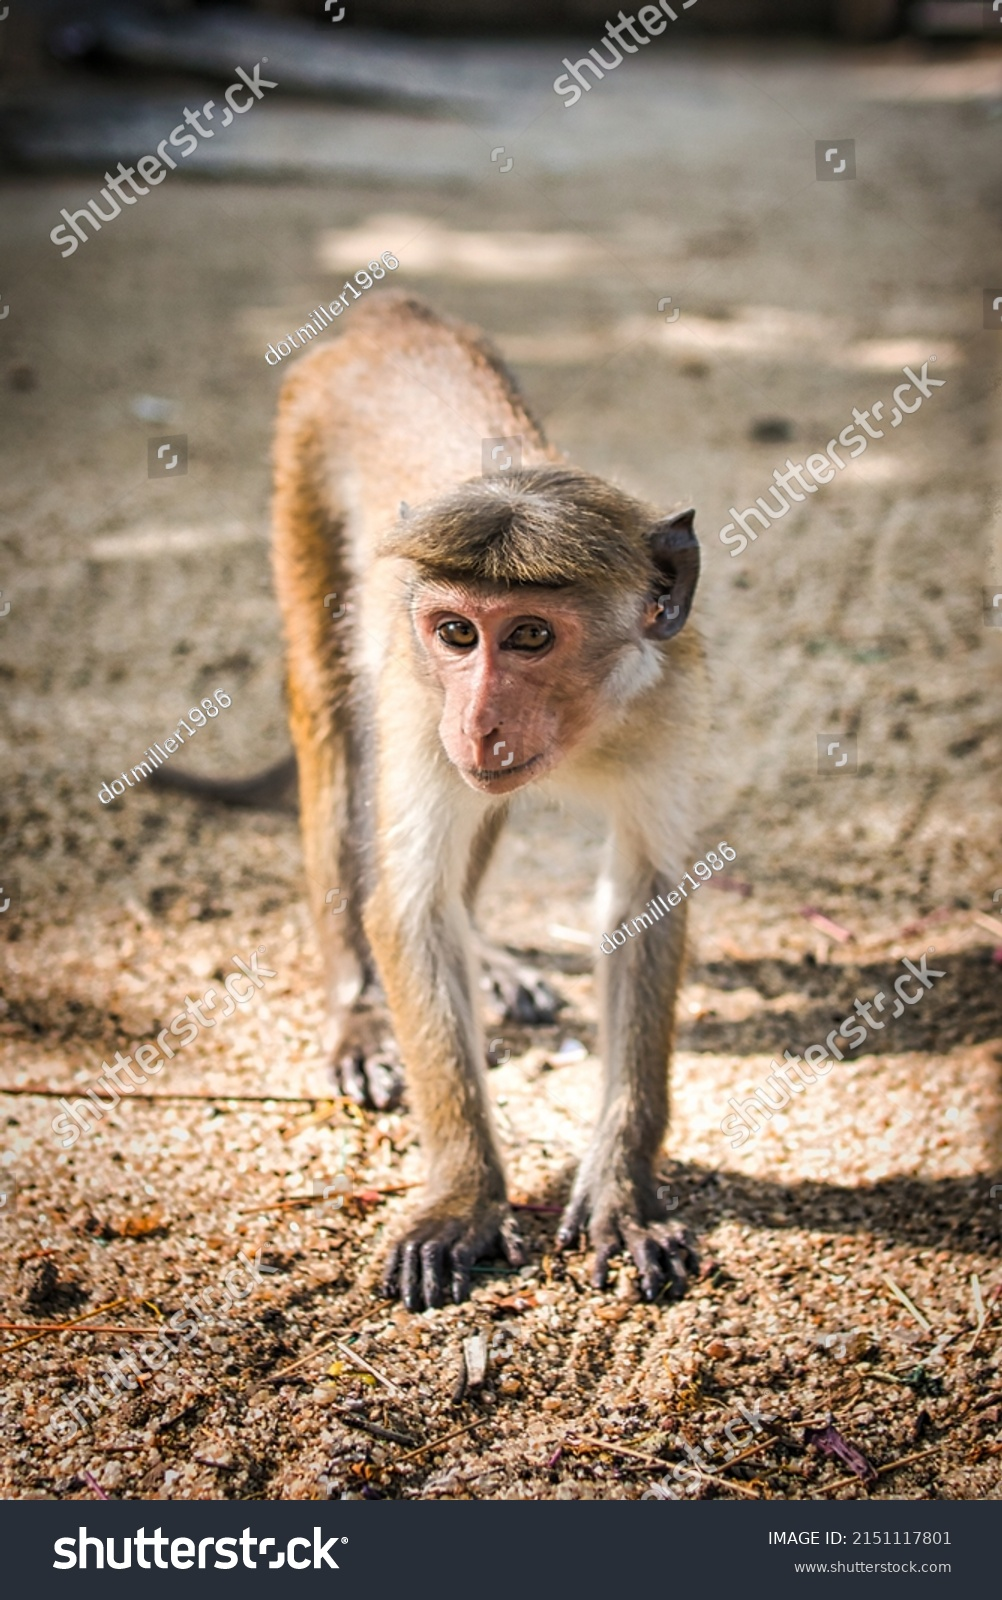Monkey: (242, 272, 745, 1331)
